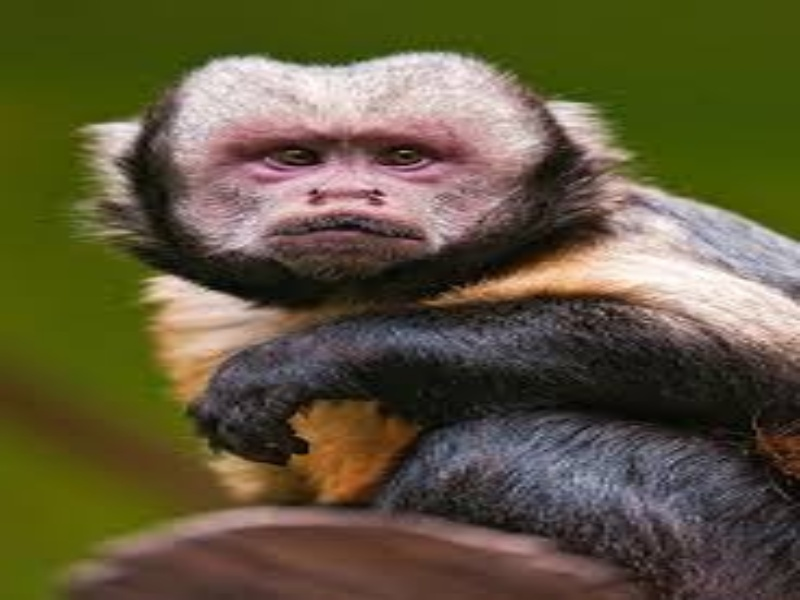monkey: (71, 39, 800, 600)
